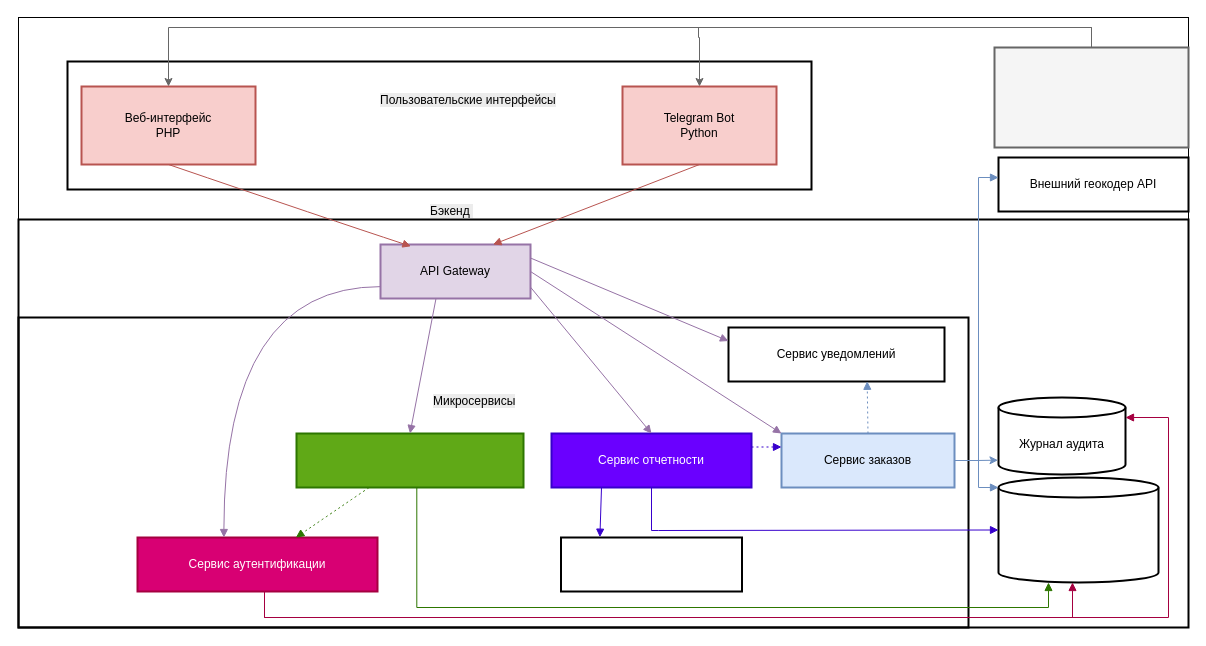
Image size: 1206x646. Some labels were removed from this diagram. Each missing label, with the box of its shape:
Генерация Excel: (560, 536, 742, 592)
Общая база данных MySQL/PostgreSQL: (997, 476, 1159, 583)
Пользователи: (993, 46, 1189, 148)
Сервис пользователей: (295, 432, 524, 488)
